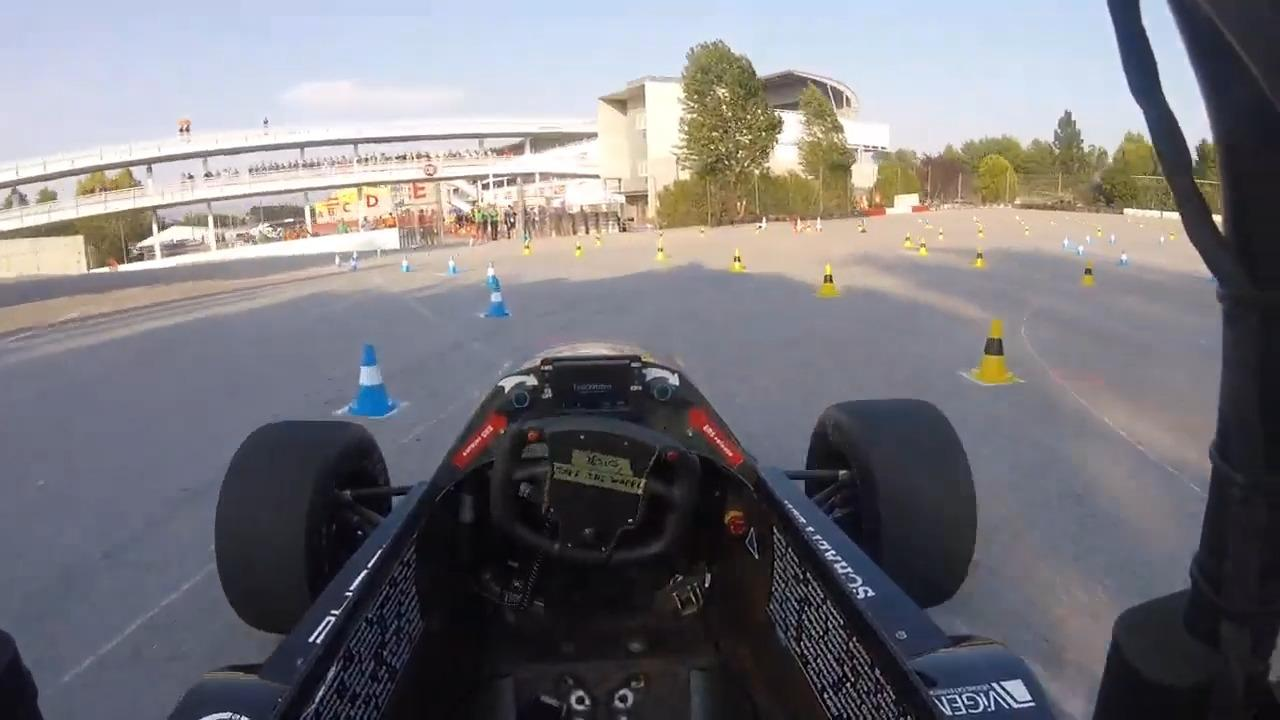blue_cone: (342, 340, 402, 419), (485, 283, 512, 322), (481, 258, 504, 288), (398, 255, 413, 274), (447, 253, 458, 278), (348, 256, 359, 273), (1061, 234, 1071, 251), (1119, 250, 1128, 267), (1077, 242, 1085, 256), (1085, 232, 1093, 246), (1109, 232, 1117, 246), (1209, 274, 1215, 284)
yellow_cone: (965, 311, 1022, 393), (816, 263, 840, 299), (1077, 260, 1099, 292), (731, 248, 747, 272), (972, 247, 987, 270), (655, 241, 670, 262), (522, 239, 536, 258), (918, 237, 929, 256), (572, 241, 584, 258), (976, 224, 988, 241), (903, 230, 912, 251), (595, 236, 603, 249)
